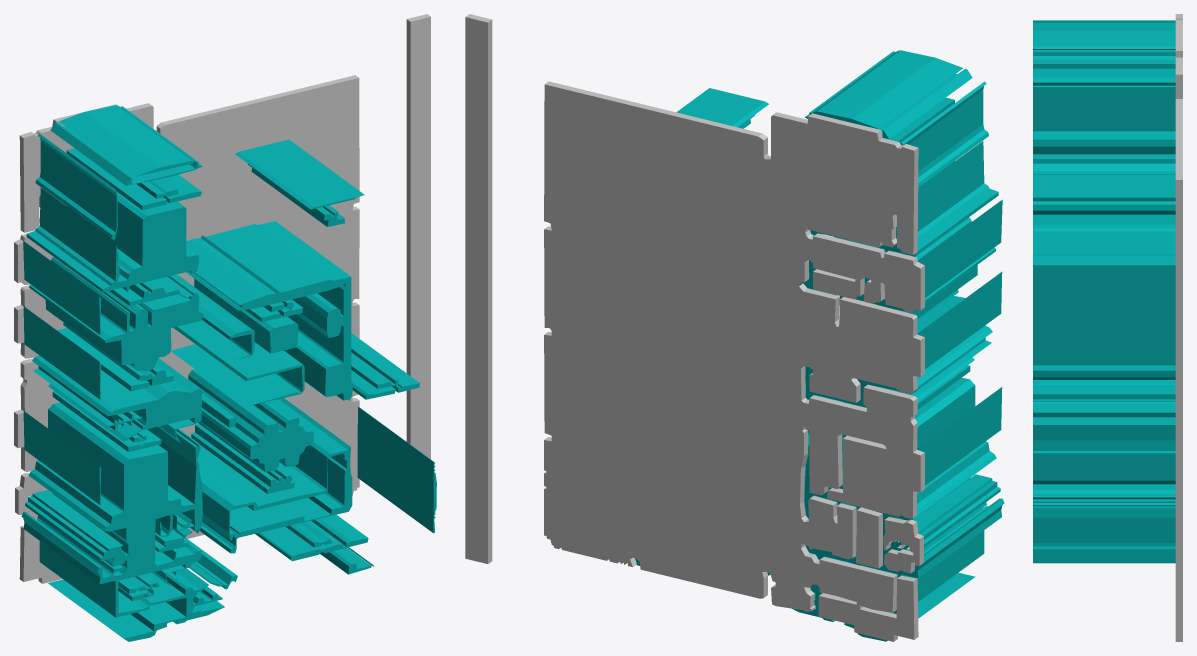
The picture shows the model from 3 angles, left to right: view 1: azimuth 30°, elevation 25°; view 2: azimuth 150°, elevation 25°; view 3: azimuth 270°, elevation 25°; orthographic projection. The views are drawn at different scales.
Parts seen in each view (by area): view 1: world; view 2: world; view 3: world.
Boxes of the visible parts, x1,y1,x2,y2 form: world: [14, 14, 436, 641]; world: [465, 14, 1004, 641]; world: [1033, 14, 1182, 641].
Bounding box in the file's own units: 9.43 × 10.72 × 3.15.
